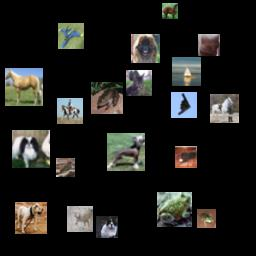airplane: (171, 92, 197, 118), (58, 23, 84, 49)
bird: (56, 158, 75, 177)
cat: (126, 70, 152, 96), (198, 34, 220, 56), (96, 216, 118, 238)
deer: (67, 206, 93, 232), (162, 3, 178, 19)
dog: (107, 133, 145, 171), (12, 130, 50, 168), (15, 202, 47, 234), (131, 34, 160, 63), (175, 146, 197, 168)
frog: (157, 192, 192, 227), (91, 82, 123, 114), (197, 209, 216, 228)
ship: (172, 57, 201, 86)
